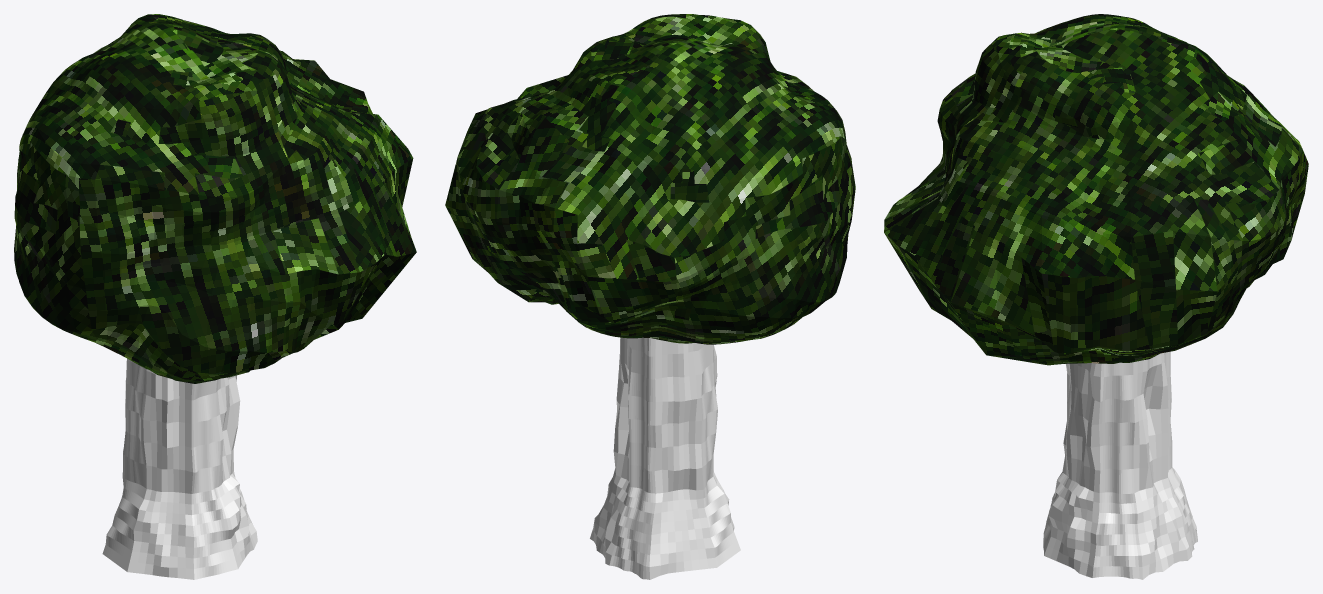
The model's file is tree.glb.
3 renders of one model, left to right at view 1: azimuth 30°, elevation 25°; view 2: azimuth 150°, elevation 25°; view 3: azimuth 270°, elevation 25°, orthographic. The views are drawn at different scales.
Visible parts, largest first — view 1: Sphere, Cube; view 2: Sphere, Cube; view 3: Sphere, Cube.
Boxes of the visible parts, bbox=[...] form: Sphere: bbox=[14, 14, 416, 383]; Cube: bbox=[102, 358, 257, 579]; Sphere: bbox=[445, 14, 855, 344]; Cube: bbox=[590, 337, 740, 579]; Sphere: bbox=[884, 14, 1308, 365]; Cube: bbox=[1043, 351, 1197, 579].
Size of the model in its own units: 8.95 by 12.37 by 9.2.
Materials: 2 (1 with a texture image).
